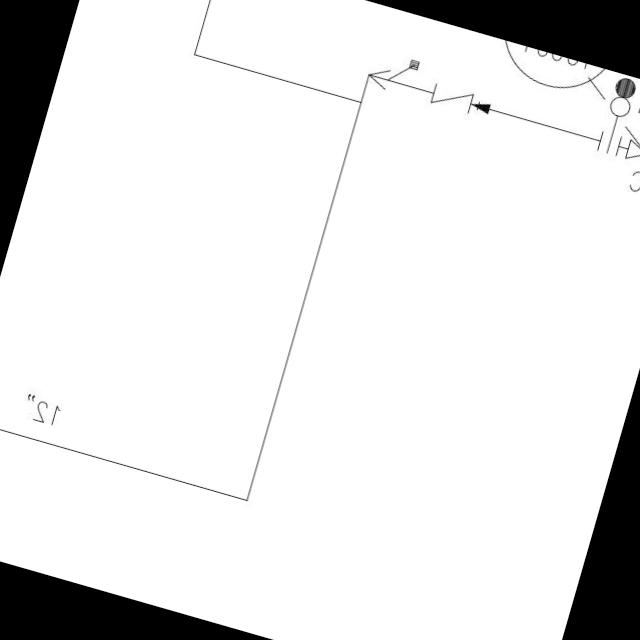FC: (618, 88, 640, 176)
